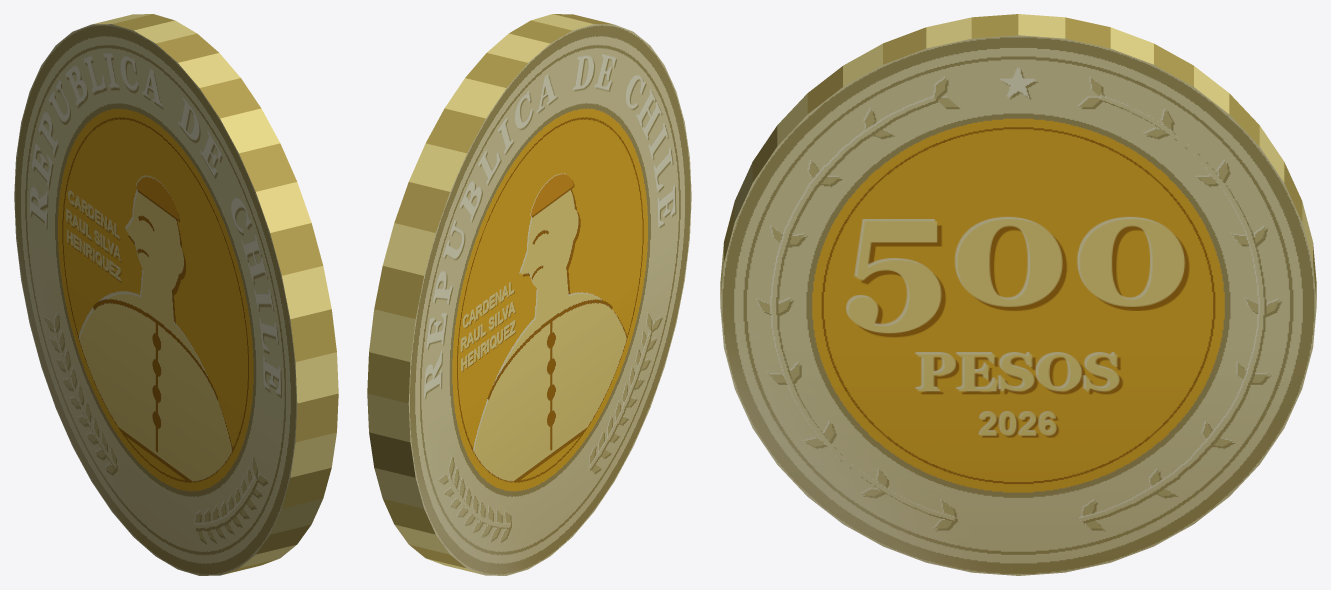
The model's file is moneda_500.obj.
The picture shows the model from 3 angles, left to right: view 1: azimuth 30°, elevation 25°; view 2: azimuth 150°, elevation 25°; view 3: azimuth 270°, elevation 25°; orthographic projection. The views are drawn at different scales.
Visible parts, largest first — view 1: moneda_500; view 2: moneda_500; view 3: moneda_500.
Part boxes in pixels (left/top/right/bottom): moneda_500: left=14, top=14, right=338, bottom=575; moneda_500: left=367, top=14, right=691, bottom=575; moneda_500: left=720, top=14, right=1316, bottom=575.
Size of the model in its own units: 0.11 by 1.3 by 1.3.
4 materials, 2 textured.
